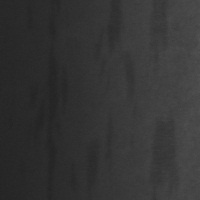inclusion: (28, 5, 69, 199), (94, 1, 138, 107), (147, 119, 182, 199), (146, 0, 174, 79), (78, 136, 104, 199), (101, 108, 118, 162)
